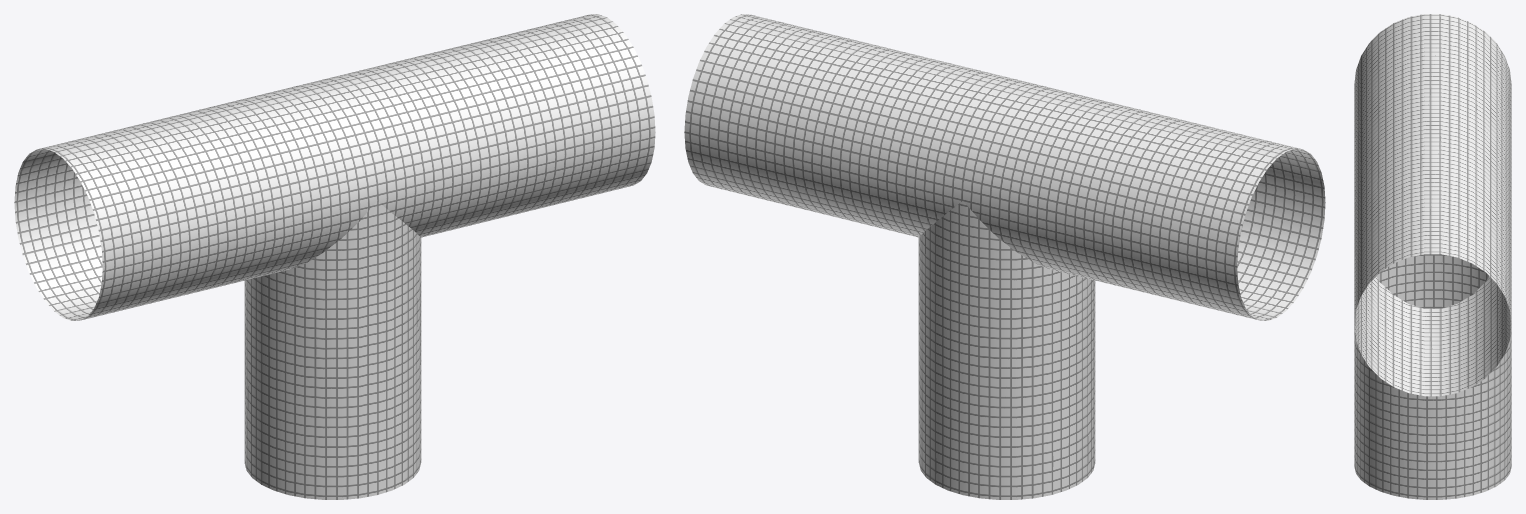
Rendered from Spiral_Stair_Rm_T.fbx.
The picture shows the model from 3 angles, left to right: view 1: azimuth 30°, elevation 25°; view 2: azimuth 150°, elevation 25°; view 3: azimuth 270°, elevation 25°; orthographic projection. The views are drawn at different scales.
Parts seen in each view (by area): view 1: P_Spiral_Stair_Rm_T; view 2: P_Spiral_Stair_Rm_T; view 3: P_Spiral_Stair_Rm_T.
Boxes of the visible parts, <box> form: P_Spiral_Stair_Rm_T: <box>14,14,655,499</box>; P_Spiral_Stair_Rm_T: <box>684,14,1325,499</box>; P_Spiral_Stair_Rm_T: <box>1354,14,1511,499</box>.
Bounding box in the file's own units: 39.22 × 25.39 × 10.86.
